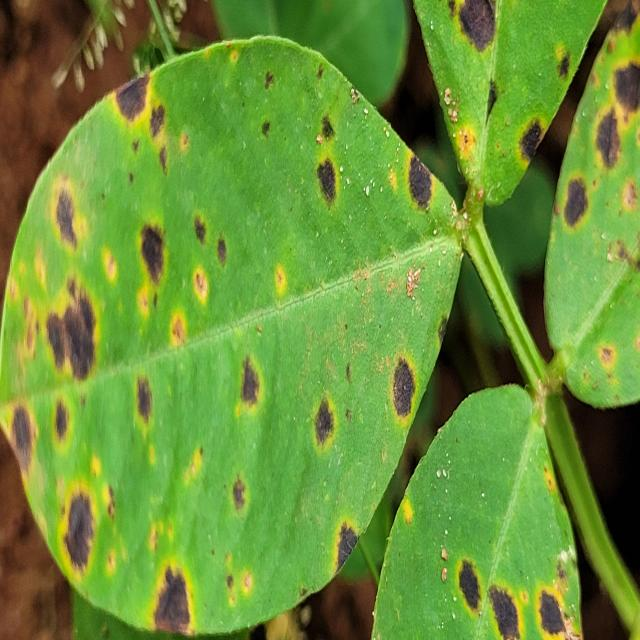Ground nut_tikka leaf spot: (1, 31, 458, 636)
